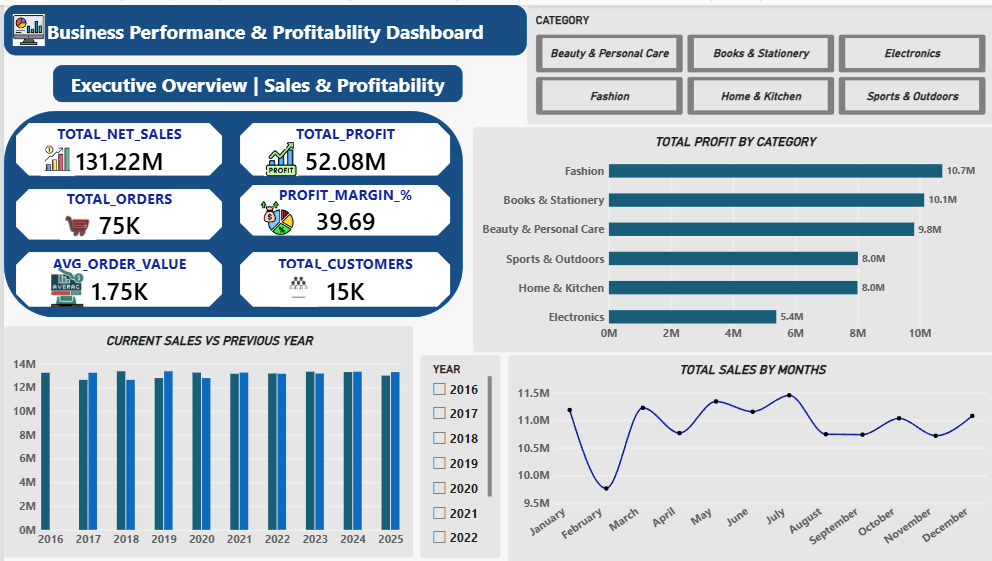

This screenshot's page, from the dashboard's own definition file:
{"tool":"powerbi","page":{"name":"Executive Overview","canvas":[1920,1080],"ordinal":0},"visuals":[{"type":"shape","box":[0,0,1012.2,98],"z":0},{"type":"shape","box":[95.7,116.9,793,72.3],"z":1},{"type":"shape","box":[0,205,888.5,399.4],"z":2},{"type":"cardVisual","fields":{"Data":["FACT_ORDER_ITEMS.TOTAL_NET_SALES"]},"box":[23.5,228.5,399.4,102.5],"z":3},{"type":"cardVisual","fields":{"Data":["FACT_ORDER_ITEMS.PROFIT_MARGIN_%"]},"box":[457,348.1,407.9,98.2],"z":4},{"type":"cardVisual","fields":{"Data":["FACT_ORDER_ITEMS.TOTAL_PROFIT"]},"box":[457,228.5,407.9,102.5],"z":5},{"type":"cardVisual","fields":{"Data":["FACT_ORDER_ITEMS.TOTAL_ORDERS"]},"box":[23.5,356.7,399.4,98.2],"z":6},{"type":"cardVisual","fields":{"Data":["FACT_ORDER_ITEMS.AVG_ORDER_VALUE"]},"box":[23.5,478.4,399.4,106.8],"z":7},{"type":"cardVisual","fields":{"Data":["FACT_ORDER_ITEMS.TOTAL_CUSTOMERS"]},"box":[457,478.4,407.9,106.8],"z":8},{"type":"textbox","box":[1751,128,169,476],"z":10},{"type":"lineChart","title":"TOTAL SALES BY MONTHS","fields":{"Category":["DIM_DATE.MONTH_NAME"],"Y":["FACT_ORDER_ITEMS.TOTAL_NET_SALES"]},"box":[976,677,944,403.6],"z":11},{"type":"clusteredColumnChart","title":"CURRENT SALES VS PREVIOUS YEAR","fields":{"Category":["DIM_DATE.YEAR"],"Y":["FACT_ORDER_ITEMS.TOTAL_NET_SALES","FACT_ORDER_ITEMS.Previous_Year_Sales"]},"box":[0,621.5,792.3,448.5],"z":12},{"type":"clusteredBarChart","title":"TOTAL PROFIT BY CATEGORY","fields":{"Category":["DIM_PRODUCT.CATEGORY"],"Y":["FACT_ORDER_ITEMS.TOTAL_PROFIT"]},"box":[907.7,237.1,1012.3,435.7],"z":13},{"type":"advancedSlicerVisual","fields":{"Values":["DIM_PRODUCT.CATEGORY"]},"box":[1012.3,2.1,907.7,228.5],"z":14},{"type":"slicer","fields":{"Values":["DIM_DATE.YEAR"]},"box":[805.2,677,155.9,393],"z":15},{"type":"image","box":[59.7,264.2,87.4,66.1],"z":16},{"type":"image","box":[492.3,264.2,89.5,66.1],"z":17},{"type":"image","box":[95.9,396.4,93.8,57.5],"z":18},{"type":"image","box":[460.3,379.3,136.4,66.1],"z":19},{"type":"image","box":[74.6,509.3,93.8,74.6],"z":20},{"type":"image","box":[421.9,509.3,296.2,74.6],"z":21},{"type":"image","box":[0,17,95.9,61.8],"z":22}]}

Visuals, with their boxes in screenshot pixels (x1, y1, x2, y2), scaled from the page's 1920x1080 canvas onto the 992x561 screenshot:
shape: box(0, 0, 523, 51)
shape: box(49, 61, 459, 98)
shape: box(0, 106, 459, 314)
cardVisual - FACT_ORDER_ITEMS.TOTAL_NET_SALES: box(12, 119, 218, 172)
cardVisual - FACT_ORDER_ITEMS.PROFIT_MARGIN_%: box(236, 181, 447, 232)
cardVisual - FACT_ORDER_ITEMS.TOTAL_PROFIT: box(236, 119, 447, 172)
cardVisual - FACT_ORDER_ITEMS.TOTAL_ORDERS: box(12, 185, 218, 236)
cardVisual - FACT_ORDER_ITEMS.AVG_ORDER_VALUE: box(12, 249, 218, 304)
cardVisual - FACT_ORDER_ITEMS.TOTAL_CUSTOMERS: box(236, 249, 447, 304)
textbox: box(905, 66, 991, 314)
"TOTAL SALES BY MONTHS" lineChart: box(504, 352, 991, 560)
"CURRENT SALES VS PREVIOUS YEAR" clusteredColumnChart: box(0, 323, 409, 556)
"TOTAL PROFIT BY CATEGORY" clusteredBarChart: box(469, 123, 991, 349)
advancedSlicerVisual - DIM_PRODUCT.CATEGORY: box(523, 1, 991, 120)
slicer - DIM_DATE.YEAR: box(416, 352, 497, 556)
image: box(31, 137, 76, 172)
image: box(254, 137, 301, 172)
image: box(50, 206, 98, 236)
image: box(238, 197, 308, 231)
image: box(39, 265, 87, 303)
image: box(218, 265, 371, 303)
image: box(0, 9, 50, 41)
